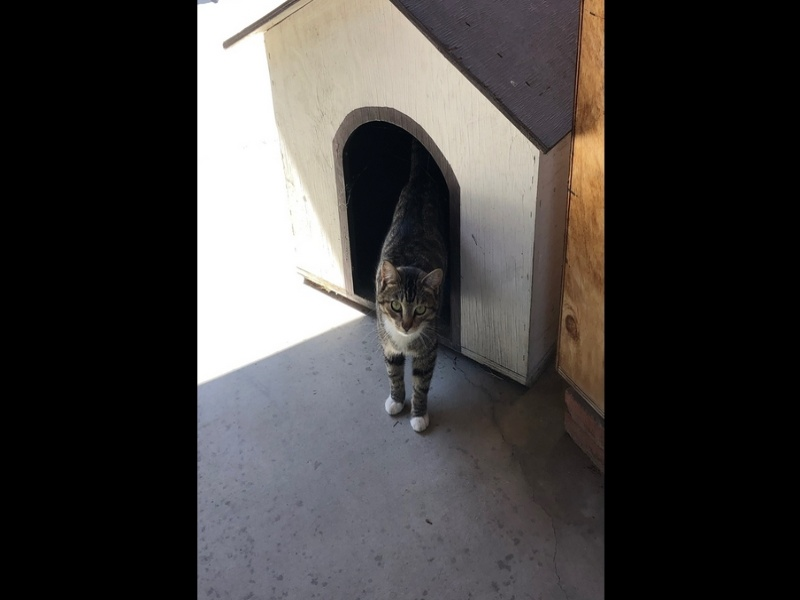cat: (376, 126, 450, 435)
